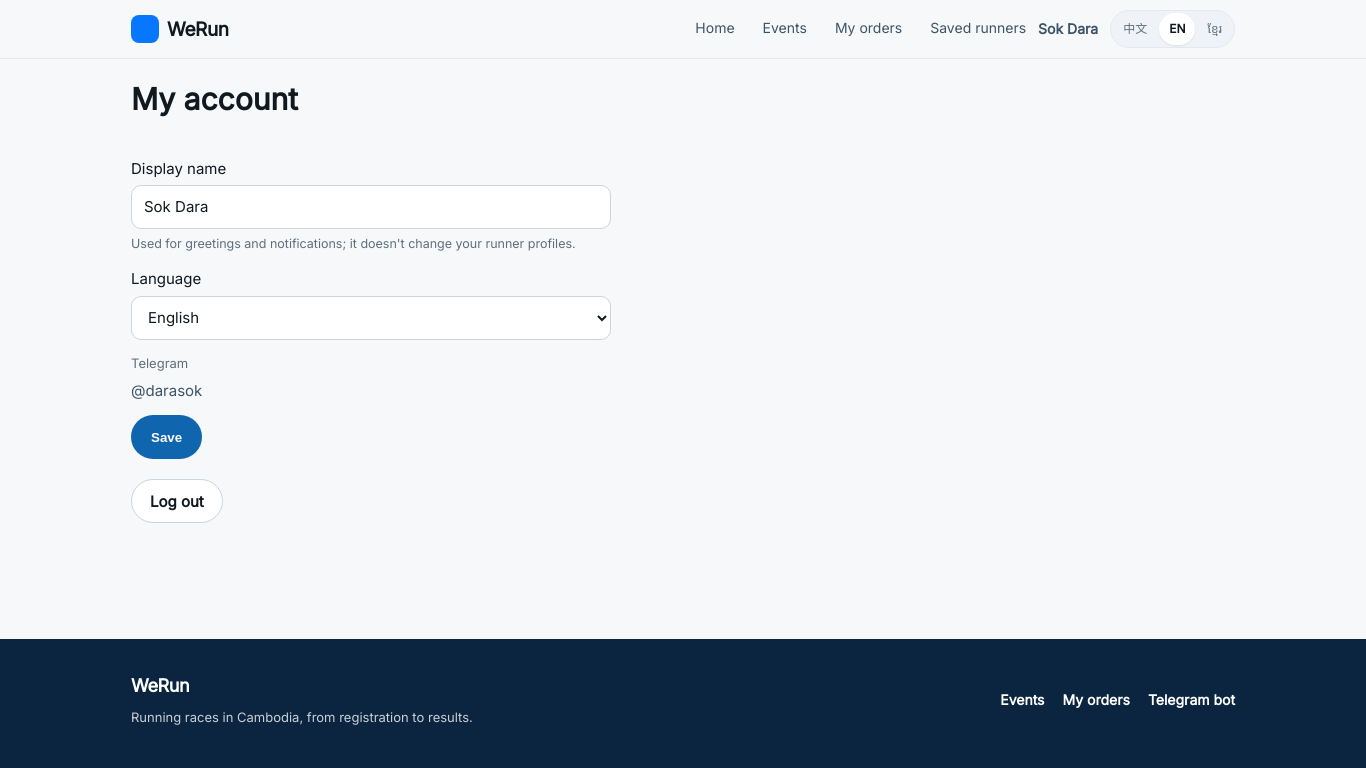
Test: MePage › 两个字段都没改时不发请求，直接提示已保存
Expected: the field with test id "me-display-name" is shown, [131,185,611,229]
Click the button with test id "me-save" at point(167, 437), box [131,415,202,459]
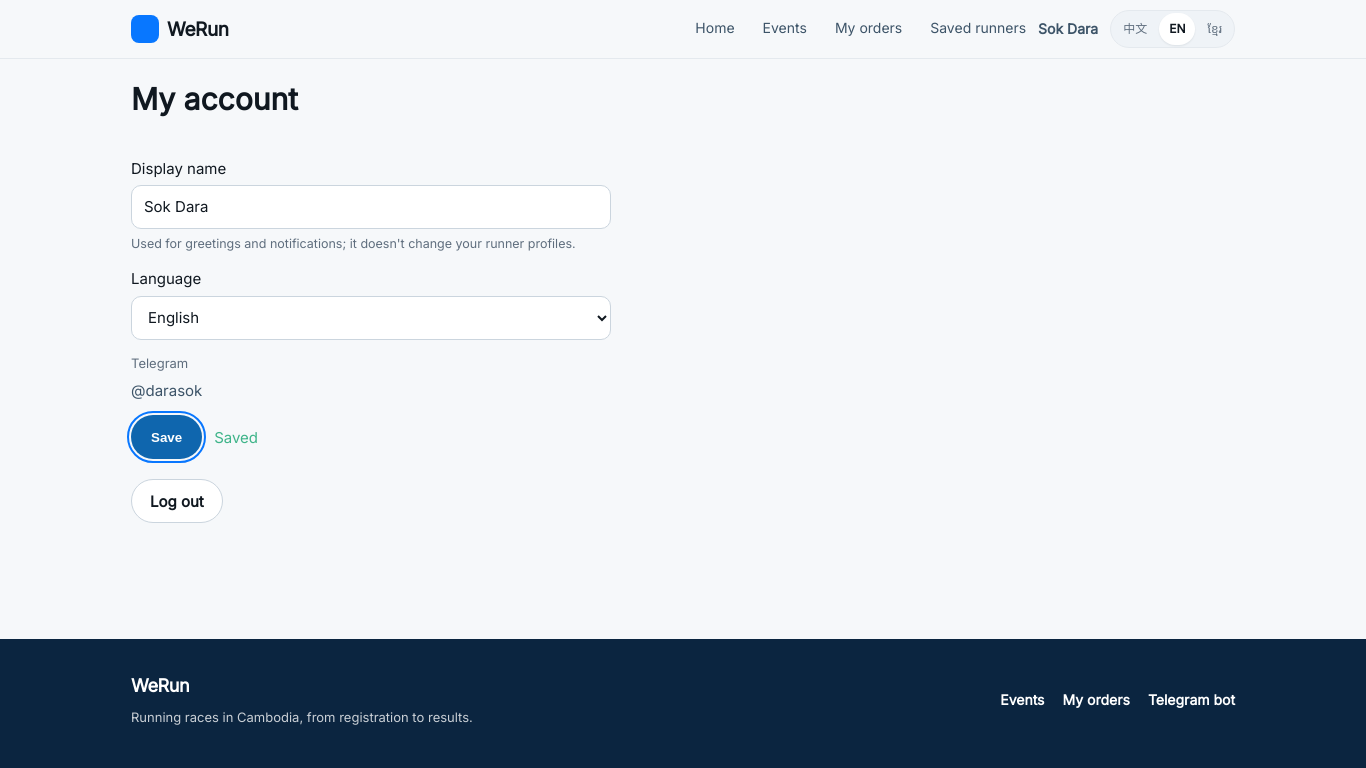
Expected: the message reads "Saved", [214,428,258,447]
